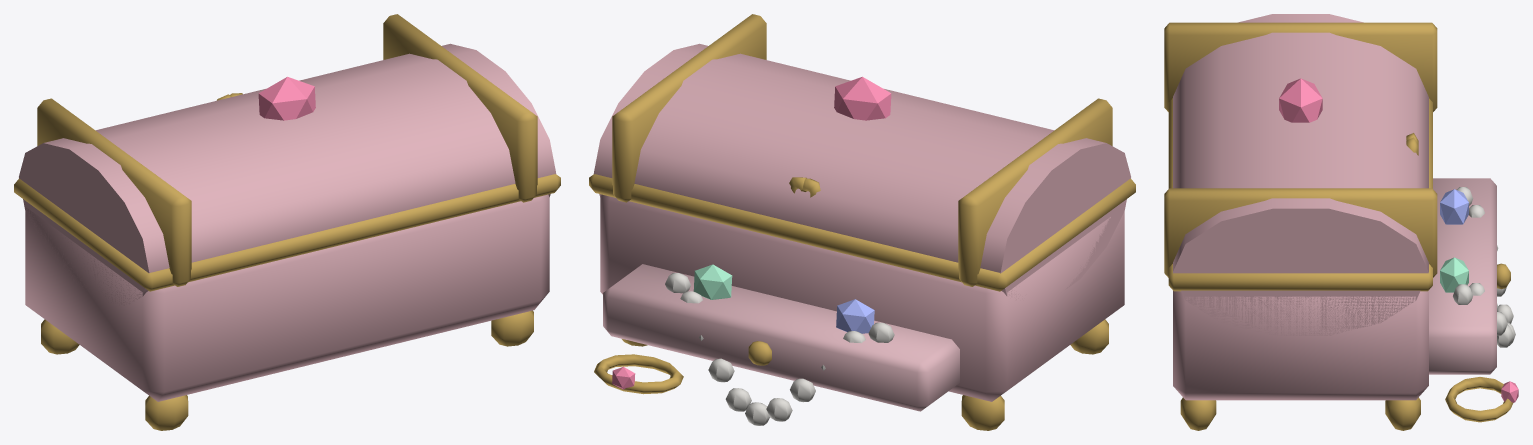
The model's file is jewelry_box.glb.
The picture shows the model from 3 angles, left to right: view 1: azimuth 30°, elevation 25°; view 2: azimuth 150°, elevation 25°; view 3: azimuth 270°, elevation 25°; orthographic projection.
Visible parts, largest first — view 1: jewelry_box; view 2: jewelry_box; view 3: jewelry_box.
Part boxes in pixels (bbox=[...]): jewelry_box: bbox=[14, 14, 560, 430]; jewelry_box: bbox=[589, 14, 1135, 430]; jewelry_box: bbox=[1164, 14, 1518, 430].
Size of what is drawn, in the model's own units: 0.4 by 0.25 by 0.3.
